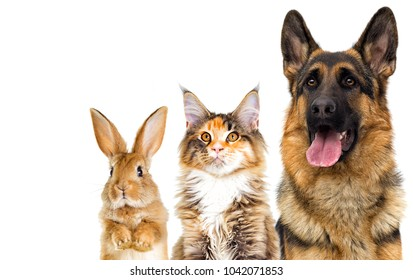cat: (176, 81, 275, 261)
dog: (279, 8, 403, 259)
rabbit: (76, 97, 163, 263)
